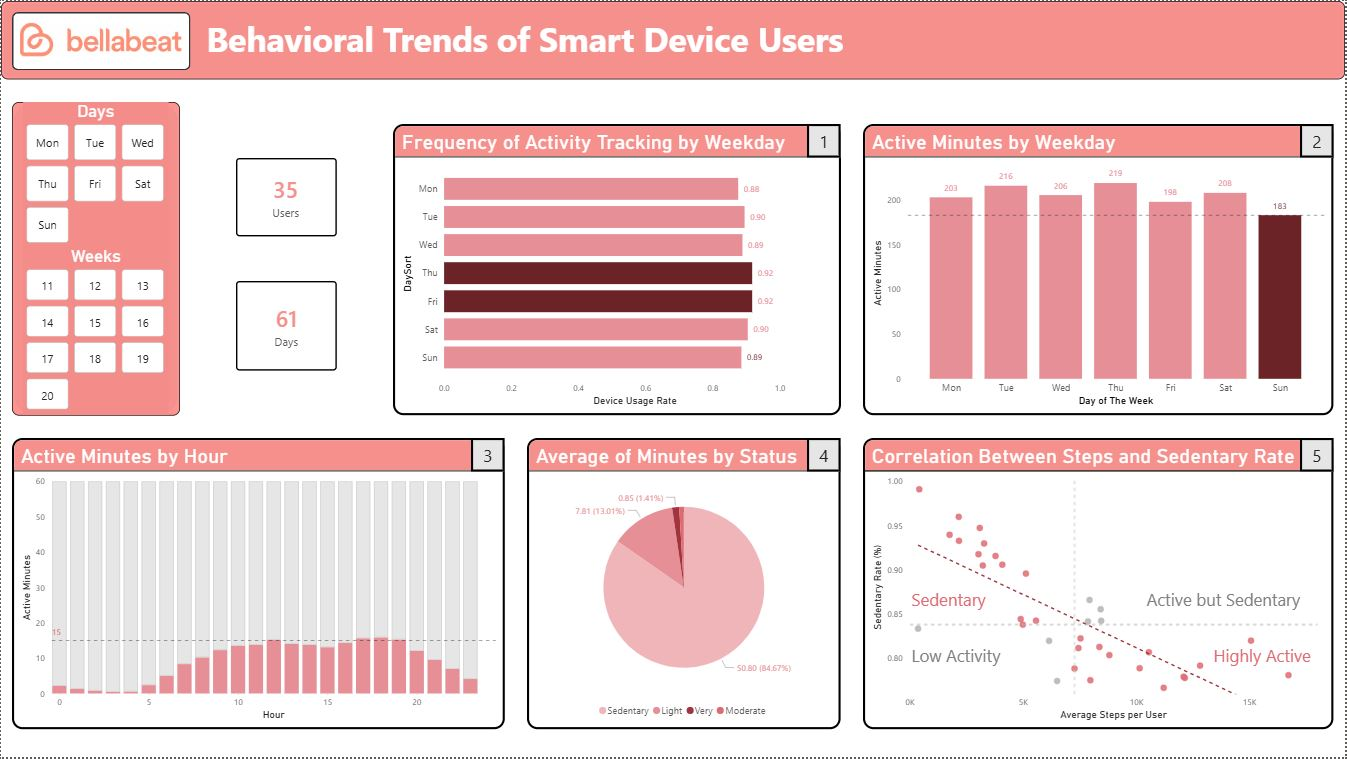

What the dashboard file says about the page in this screenshot:
{"tool":"powerbi","page":{"name":"Behavioral Trends","canvas":[1920,1080],"ordinal":0},"visuals":[{"type":"shape","box":[0,0,1920,112],"z":0},{"type":"scatterChart","title":"Correlation Between Steps and Sedentary Rate","fields":{"Series":["DimUser.Id"],"X":["Avg(FactActivity.TotalSteps)"],"Y":["FactActivity.Sedetary %"]},"box":[1232,624,672,416],"z":0,"group":"g6"},{"type":"textbox","box":[288,16,976,80],"z":1000},{"type":"columnChart","title":"Active Minutes by Weekday","fields":{"Category":["DimDate.DaySort"],"Y":["*Measure Table.Median Active Minutes Daily"]},"box":[1232,176,672,416],"z":1000,"group":"g2"},{"type":"textbox","box":[1632,832,240,48],"z":1000,"group":"g6"},{"type":"group","id":"g1","title":"Group 1","box":[16,16,256,96],"z":2000},{"type":"columnChart","title":"Active Minutes","fields":{"Category":["DimHour.HourNumber"],"Y":["*Measure Table.Avg Active  Hourly","Avg(FactActivityHour.SedentaryActiveMinute)"]},"box":[16,624,704,416],"z":2000,"group":"g4"},{"type":"textbox","box":[1728,912,160,48],"z":2000,"group":"g6"},{"type":"cardVisual","fields":{"Data":["CountNonNull(DimUser.Id)"]},"box":[336,224,144,112],"z":3000},{"type":"textbox","box":[1296,832,128,48],"z":3000,"group":"g6"},{"type":"cardVisual","fields":{"Data":["CountNonNull(DimDate.Date)"]},"box":[336,400,144,128],"z":4000},{"type":"textbox","box":[1296,912,144,48],"z":4000,"group":"g6"},{"type":"shape","box":[16,144,240,448],"z":5000},{"type":"textbox","box":[1856,624,48,48],"z":5000,"group":"g6"},{"type":"barChart","title":"Frequency of Activity Tracking by Weekday","fields":{"Category":["DimDate.DaySort"],"Y":["*Measure Table.Device Usage Rate"]},"box":[560,176,640,416],"z":6000,"group":"g3"},{"type":"group","id":"g2","title":"Group 2","box":[1232,176,672,416],"z":6000},{"type":"group","id":"g3","title":"Group 3","box":[560,176,640,416],"z":7000},{"type":"pieChart","fields":{"Category":["UnpivotFactActivityHour.Status"],"Y":["Avg(UnpivotFactActivityHour.Minutes)"]},"box":[752,624,448,416],"z":7000,"group":"g5"},{"type":"textbox","box":[1152,176,48,48],"z":7003,"group":"g3"},{"type":"group","id":"g4","title":"Group 4","box":[16,624,704,416],"z":8000},{"type":"textbox","box":[1856,176,48,48],"z":8001,"group":"g2"},{"type":"textbox","box":[672,624,48,48],"z":8002,"group":"g4"},{"type":"textbox","box":[1152,624,48,48],"z":8003,"group":"g5"},{"type":"group","id":"g5","title":"Group 5","box":[752,624,448,416],"z":9000},{"type":"shape","box":[16,16,255,83.2],"z":10000,"group":"g1"},{"type":"group","id":"g6","title":"Group 6","box":[1232,624,672,416],"z":10000},{"type":"image","box":[27.4,28,231.4,56.6],"z":11000,"group":"g1"},{"type":"advancedSlicerVisual","title":"Days","fields":{"Values":["DimDate.DaySort"]},"box":[32,144,208,192],"z":11000},{"type":"advancedSlicerVisual","title":"Weeks","fields":{"Values":["DimDate.Week of Year"]},"box":[32,336,208,240],"z":12000},{"type":"cardVisual","fields":{"Data":["*Measure Table.Correlation Steps vs Sedentary"]},"box":[1728,688,160,128],"z":12001}]}

Visuals, with their boxes in screenshot pixels (x1, y1, x2, y2), scaled from the page's 1920x1080 canvas onto the 1347x759 screenshot:
shape: <box>0,0,1346,79</box>
"Correlation Between Steps and Sedentary Rate" scatterChart: <box>864,439,1336,731</box>
textbox: <box>202,11,887,67</box>
"Active Minutes by Weekday" columnChart: <box>864,124,1336,416</box>
textbox: <box>1145,585,1313,618</box>
"Group 1" group: <box>11,11,191,79</box>
"Active Minutes" columnChart: <box>11,439,505,731</box>
textbox: <box>1212,641,1325,675</box>
cardVisual - CountNonNull(DimUser.Id): <box>236,157,337,236</box>
textbox: <box>909,585,999,618</box>
cardVisual - CountNonNull(DimDate.Date): <box>236,281,337,371</box>
textbox: <box>909,641,1010,675</box>
shape: <box>11,101,180,416</box>
textbox: <box>1302,439,1336,472</box>
"Frequency of Activity Tracking by Weekday" barChart: <box>393,124,842,416</box>
"Group 2" group: <box>864,124,1336,416</box>
"Group 3" group: <box>393,124,842,416</box>
pieChart - UnpivotFactActivityHour.Status x Avg(UnpivotFactActivityHour.Minutes): <box>528,439,842,731</box>
textbox: <box>808,124,842,157</box>
"Group 4" group: <box>11,439,505,731</box>
textbox: <box>1302,124,1336,157</box>
textbox: <box>471,439,505,472</box>
textbox: <box>808,439,842,472</box>
"Group 5" group: <box>528,439,842,731</box>
shape: <box>11,11,190,70</box>
"Group 6" group: <box>864,439,1336,731</box>
image: <box>19,20,182,59</box>
"Days" advancedSlicerVisual: <box>22,101,168,236</box>
"Weeks" advancedSlicerVisual: <box>22,236,168,405</box>
cardVisual - *Measure Table.Correlation Steps vs Sedentary: <box>1212,484,1325,573</box>
